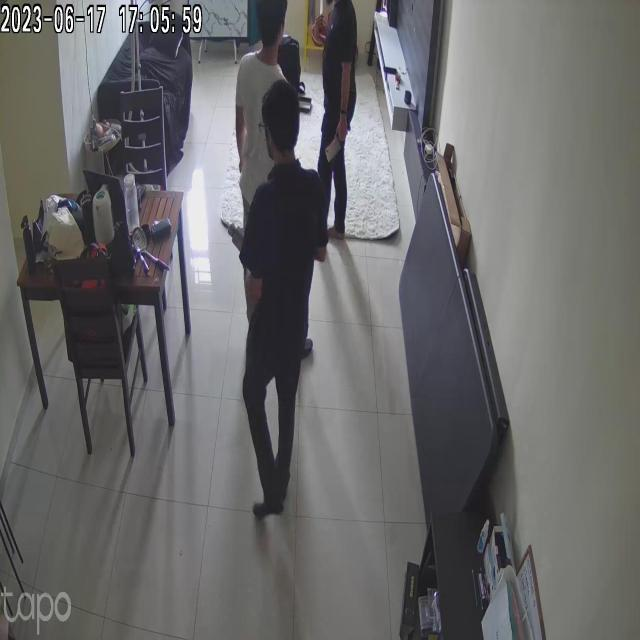Knife: (324, 128, 354, 172)
